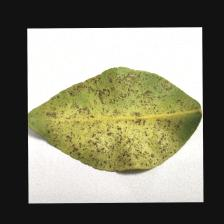canker: (59, 83, 171, 153)
